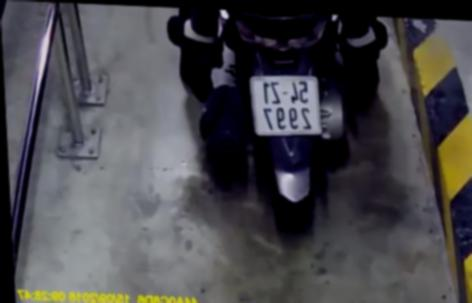License_Plate: (243, 70, 326, 142)
